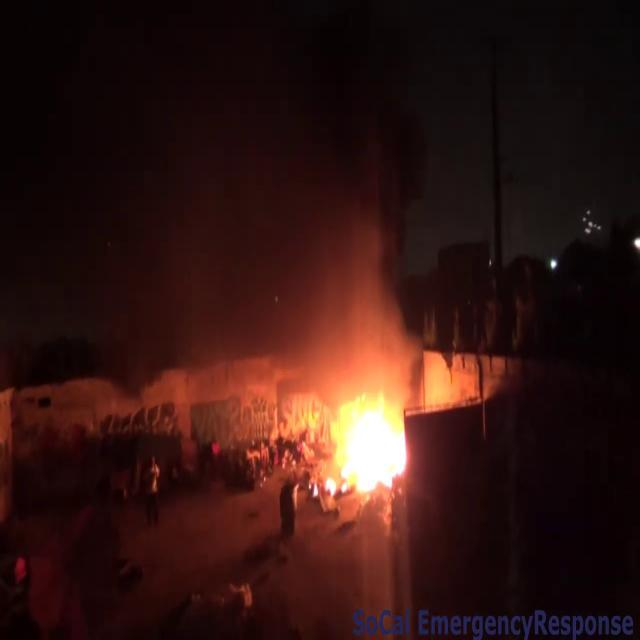Fire: (304, 372, 421, 500)
Smoke: (204, 76, 428, 382)
